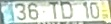0: (89, 1, 99, 19)
1: (81, 1, 90, 19)
3: (13, 2, 26, 21)
6: (26, 1, 39, 20)
D: (59, 0, 73, 20)
T: (47, 1, 59, 20)
